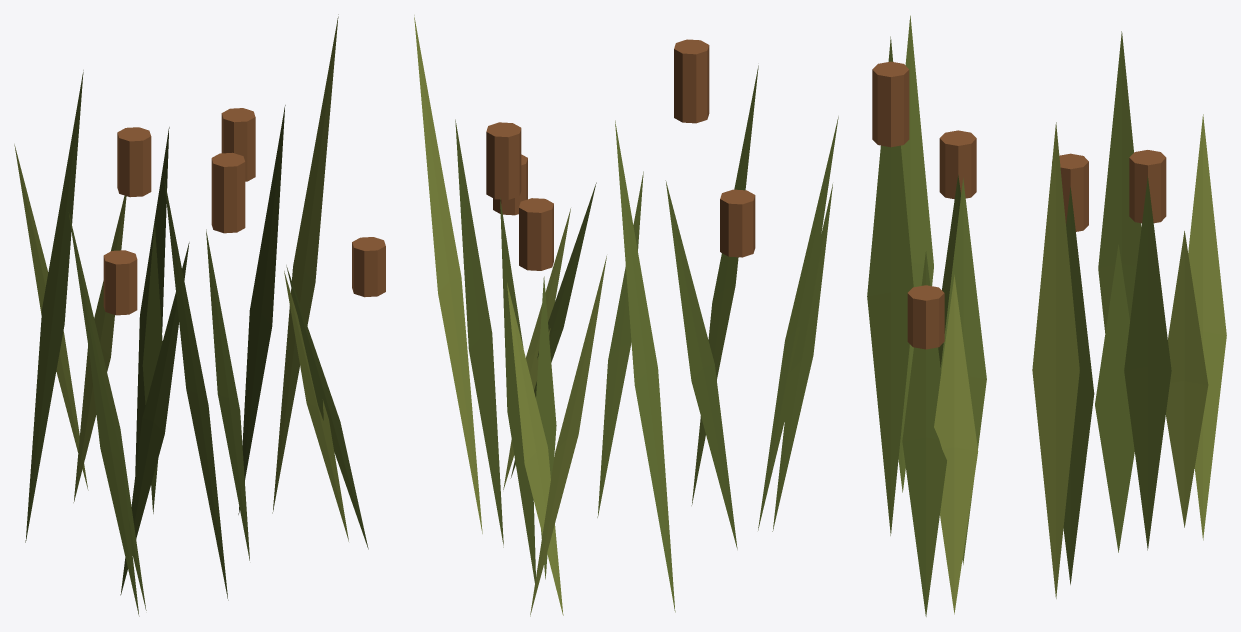
File: reeds.glb
The picture shows the model from 3 angles, left to right: view 1: azimuth 30°, elevation 25°; view 2: azimuth 150°, elevation 25°; view 3: azimuth 270°, elevation 25°; orthographic projection. The views are drawn at different scales.
Parts seen in each view (by area): view 1: reeds; view 2: reeds; view 3: reeds.
Part boxes in pixels (x1,y1,x2,y2): reeds: [14, 14, 385, 616]; reeds: [414, 15, 838, 616]; reeds: [867, 15, 1226, 616].
Bounding box in the file's own units: 0.7847 × 1.07 × 0.6819.
